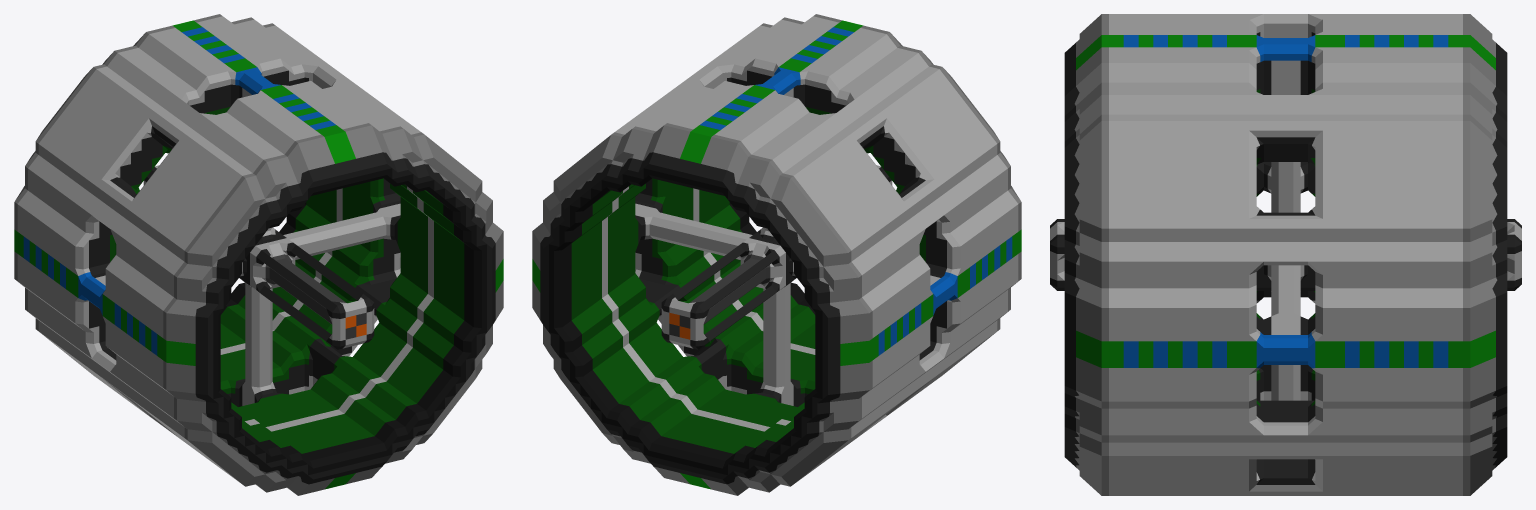
Rendered from agriculture_medium.fbx.
3 renders of one model, left to right at view 1: azimuth 30°, elevation 25°; view 2: azimuth 150°, elevation 25°; view 3: azimuth 270°, elevation 25°, orthographic. The views are drawn at different scales.
Parts seen in each view (by area): view 1: agriculture_medium; view 2: agriculture_medium; view 3: agriculture_medium.
Part boxes in pixels (x1=…): agriculture_medium: x1=14, y1=14, x2=503, y2=495; agriculture_medium: x1=532, y1=14, x2=1021, y2=495; agriculture_medium: x1=1050, y1=14, x2=1521, y2=495.
Size of the model in its own units: 3200 by 3200 by 3200.
